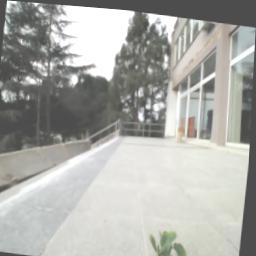herb: (148, 222, 193, 256)
